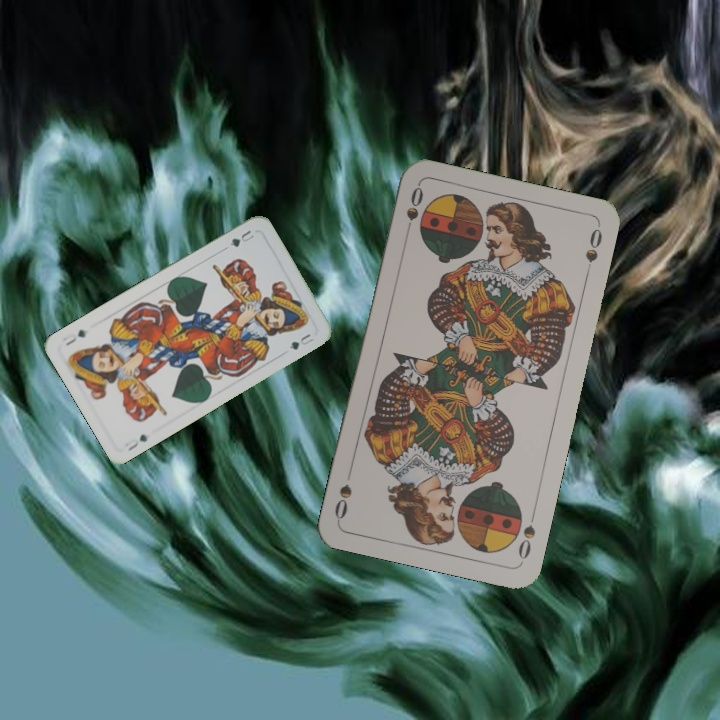GU: (226, 226, 257, 250), (121, 430, 150, 453)
SO: (401, 182, 426, 241), (514, 506, 539, 562)
